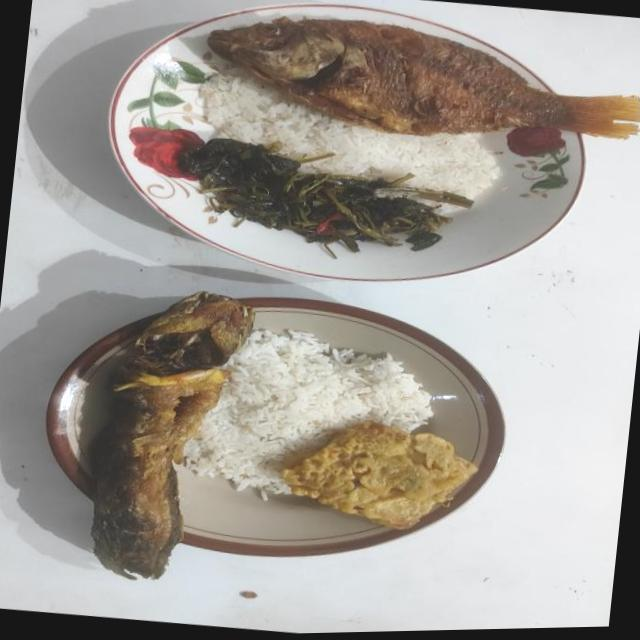ikan_mujair: (207, 18, 640, 138)
nasi_putih: (184, 329, 432, 494), (198, 76, 501, 198)
tumis_kangkung: (180, 138, 473, 252)
